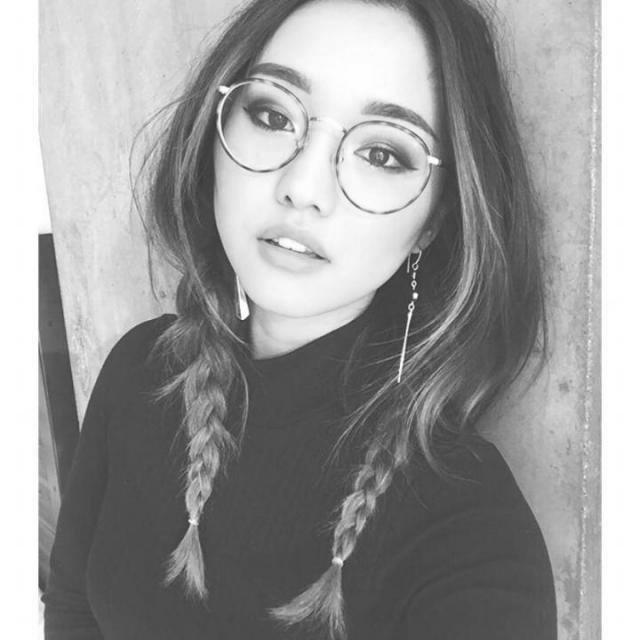real: (224, 10, 429, 310)
